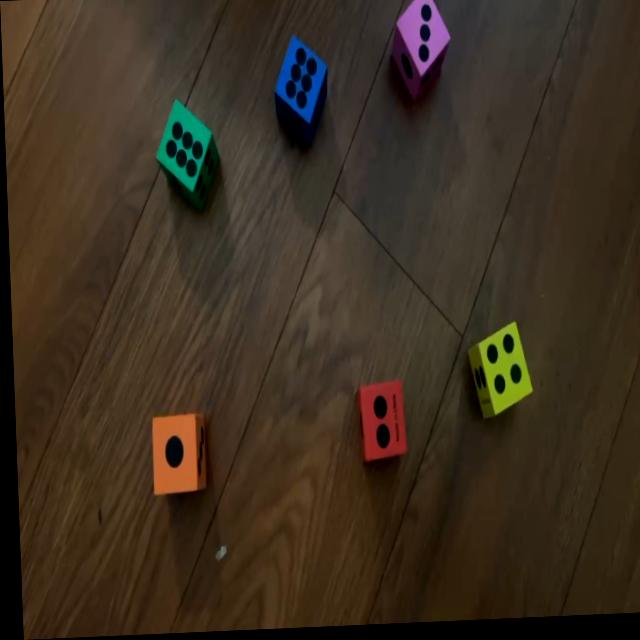blue_block: (272, 32, 329, 144)
red_block: (356, 382, 400, 464)
